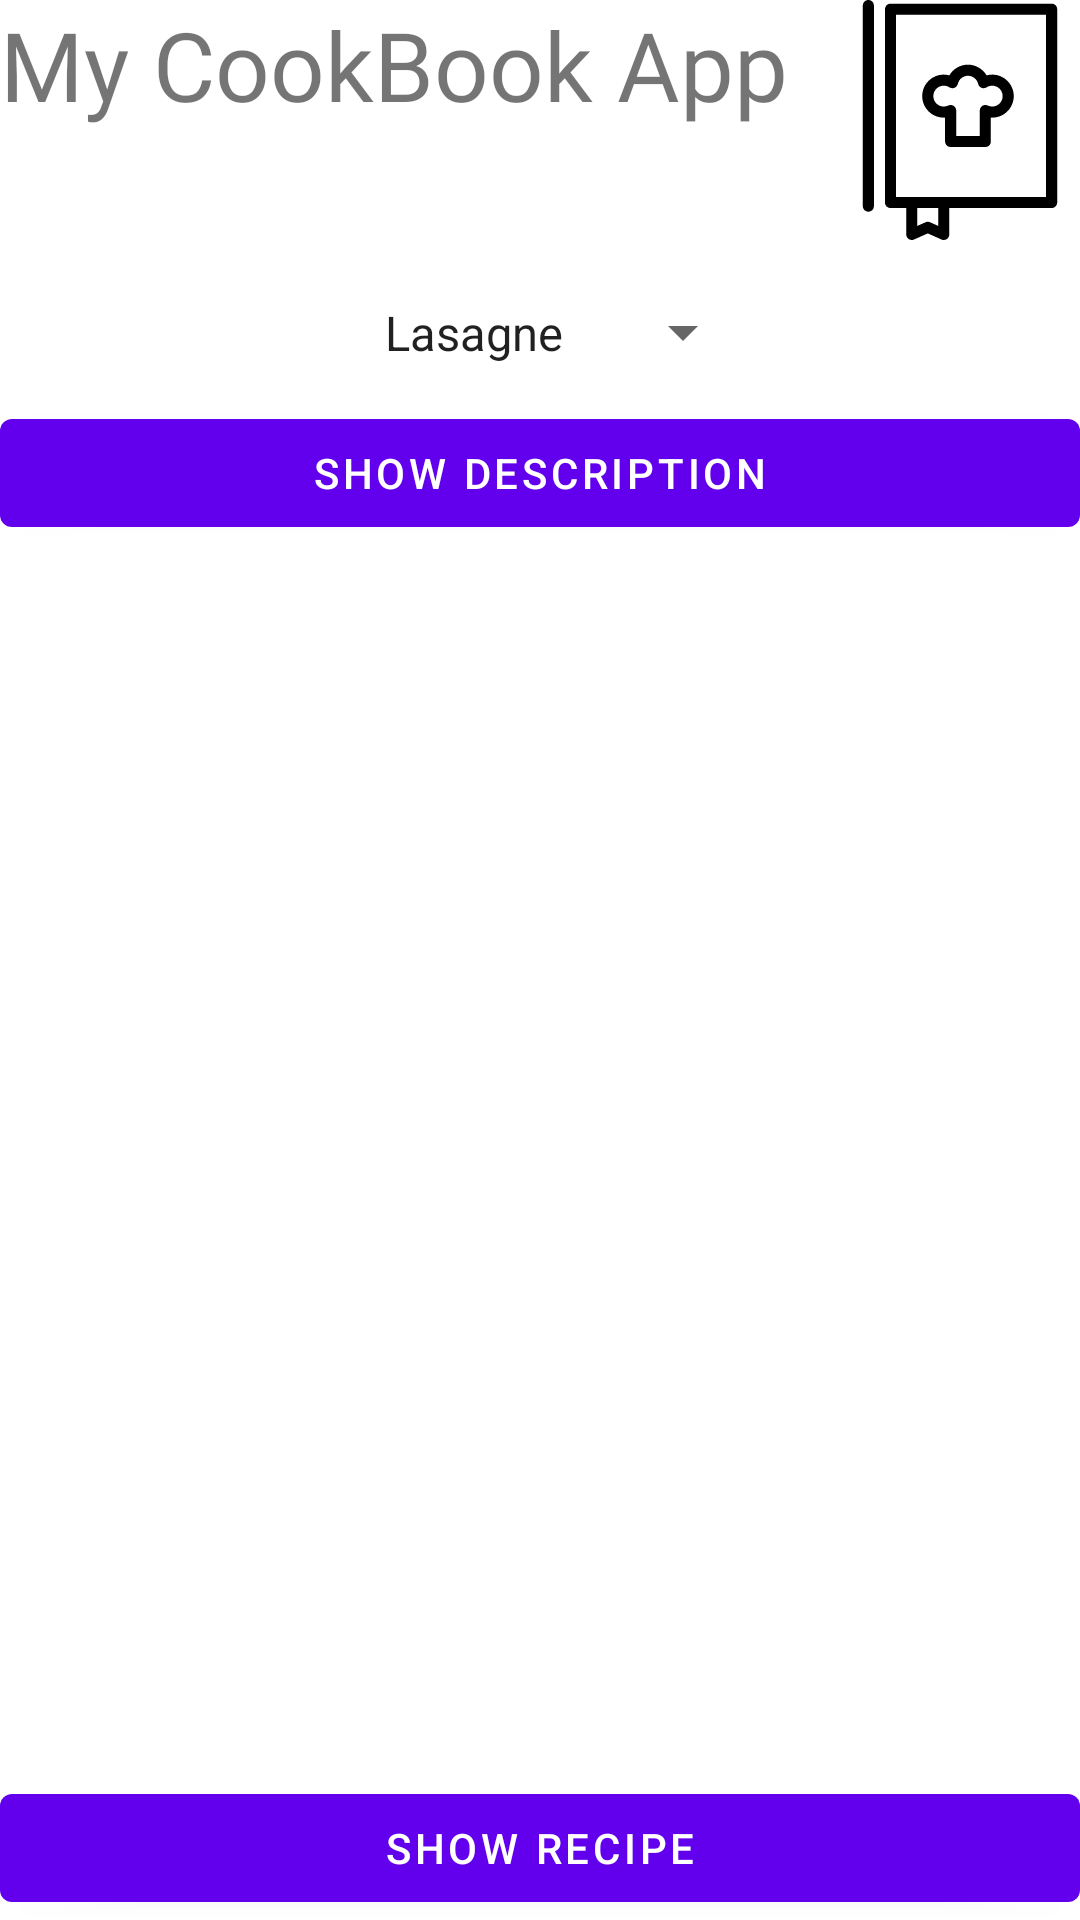

Named icons in this screenshot (1080 × 1920) and their bounding boxes, (x1, y1, x2, y2):
recipe image: (862, 0, 1058, 240)
